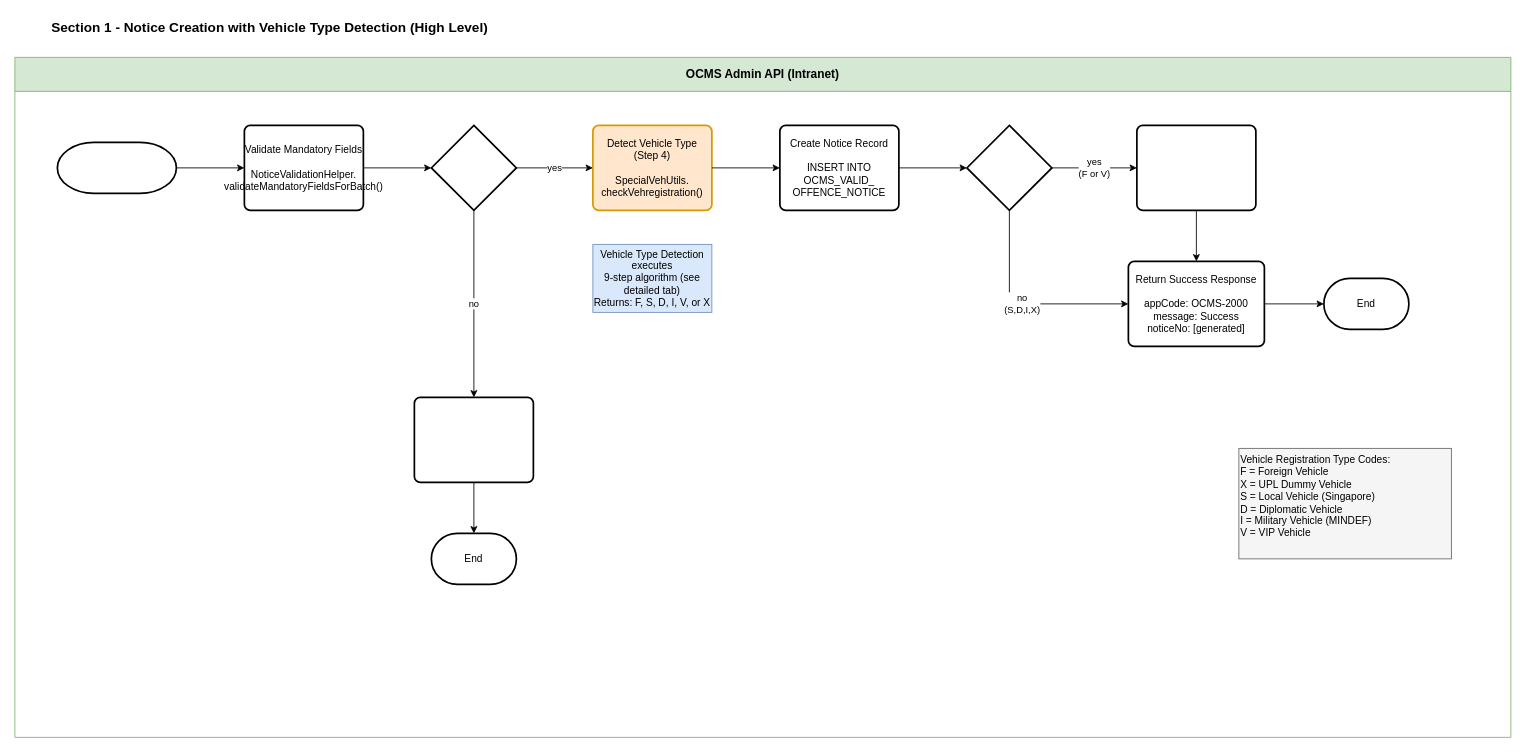
Some shapes in this 1526 by 752 pixel diagram are drawn without their labels. Each missing label, with the centre of its shape:
"Create Suspension INSERT INTO SUSPENDED_NOTICE PS-FOR / TS-OLD" belongs at (1196,167).
"Foreign or VIP?" belongs at (1009,167).
"Receive Notice Data" belongs at (116,167).
"Return Error Response appCode: OCMS-4000 message: Error details" belongs at (473,439).
"Valid?" belongs at (473,167).
